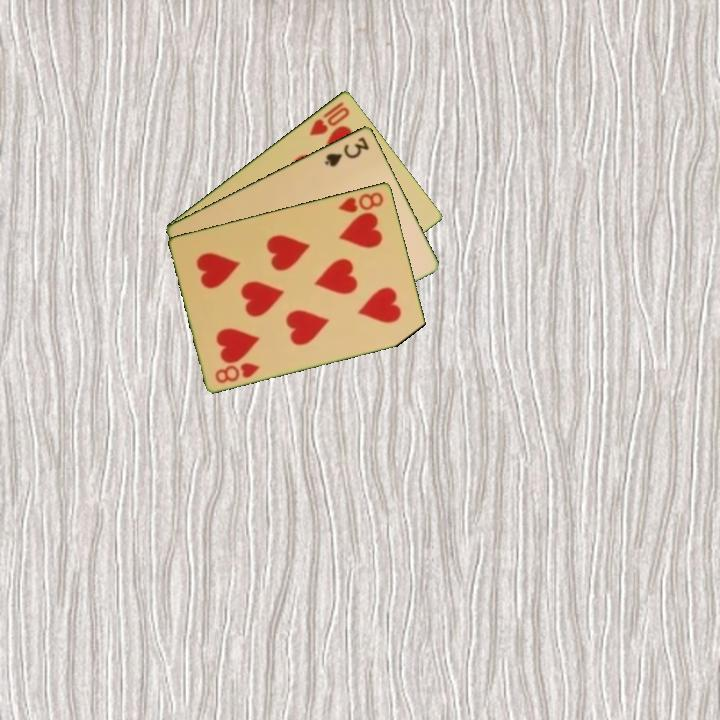10h: (306, 103, 353, 138)
3s: (321, 133, 372, 170)
8h: (211, 359, 263, 386), (335, 188, 386, 215)
